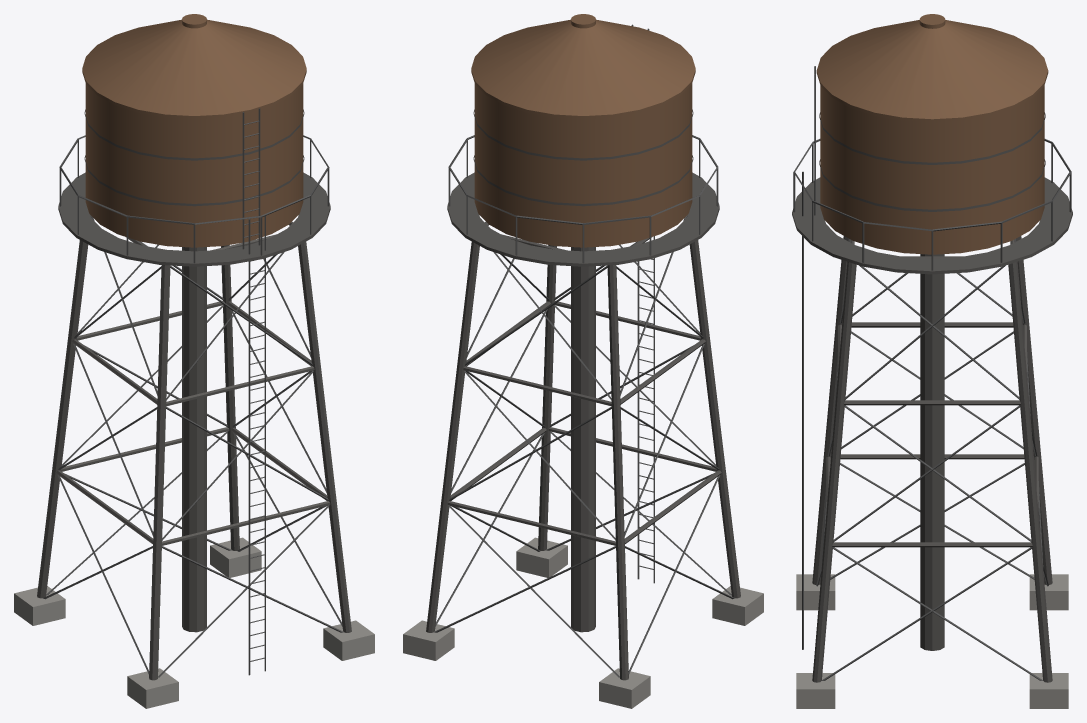
Rendered from Scenery_WaterTower.fbx.
3 renders of one model, left to right at view 1: azimuth 30°, elevation 25°; view 2: azimuth 150°, elevation 25°; view 3: azimuth 270°, elevation 25°, orthographic. The views are drawn at different scales.
Parts seen in each view (by area): view 1: Scenery_WaterTower_Mesh; view 2: Scenery_WaterTower_Mesh; view 3: Scenery_WaterTower_Mesh.
Part boxes in pixels (x1,y1,x2,y2): Scenery_WaterTower_Mesh: (14, 14, 374, 708); Scenery_WaterTower_Mesh: (403, 14, 763, 708); Scenery_WaterTower_Mesh: (792, 14, 1072, 708).
Size of the model in its own units: 6.5 by 16.15 by 6.5.
